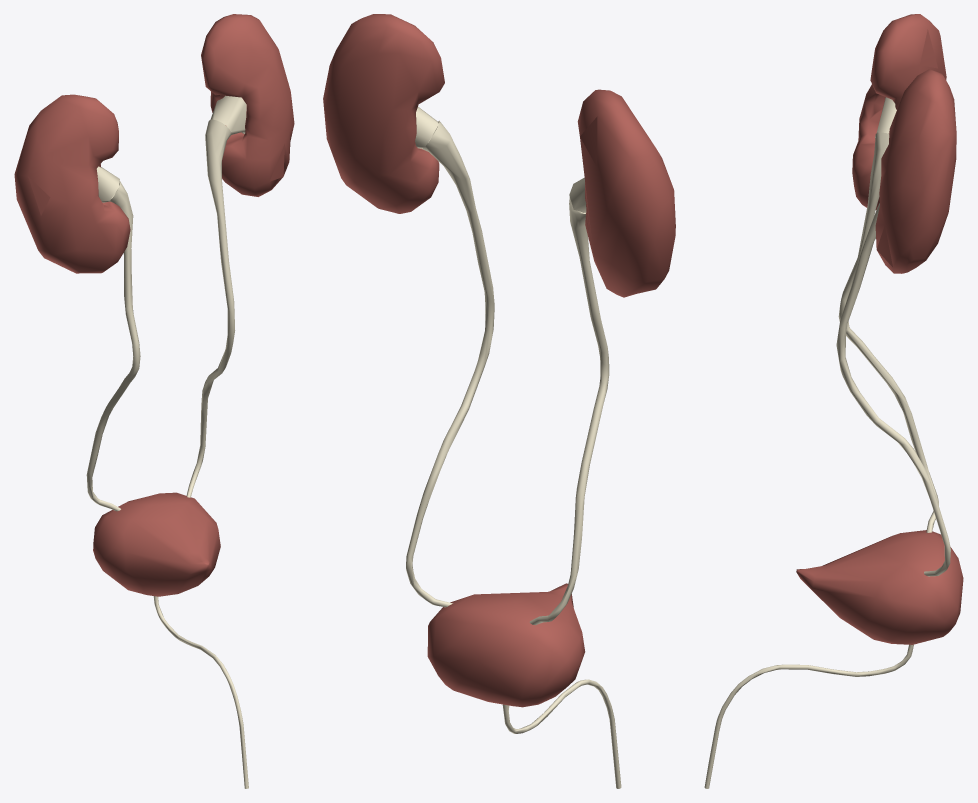
The model's file is adult_male.urinary.LOD2.glb.
3 renders of one model, left to right at view 1: azimuth 30°, elevation 25°; view 2: azimuth 150°, elevation 25°; view 3: azimuth 270°, elevation 25°, orthographic. The views are drawn at different scales.
Visible parts, largest first — view 1: ADULT.MALE.URINARY.KIDNEY.R, ADULT.MALE.URINARY.KIDNEY.L, ADULT.MALE.URINARY.URINARY_BLADDER, ADULT.MALE.URINARY.URETER.L, ADULT.MALE.URINARY.URETER.R, ADULT.MALE.URINARY.URETHRA, ADULT.MALE.URINARY.RENAL_PELVIS.L, ADULT.MALE.URINARY.RENAL_PELVIS.R; view 2: ADULT.MALE.URINARY.KIDNEY.L, ADULT.MALE.URINARY.KIDNEY.R, ADULT.MALE.URINARY.URINARY_BLADDER, ADULT.MALE.URINARY.URETER.L, ADULT.MALE.URINARY.URETER.R, ADULT.MALE.URINARY.URETHRA, ADULT.MALE.URINARY.RENAL_PELVIS.L; view 3: ADULT.MALE.URINARY.URINARY_BLADDER, ADULT.MALE.URINARY.KIDNEY.L, ADULT.MALE.URINARY.KIDNEY.R, ADULT.MALE.URINARY.URETER.L, ADULT.MALE.URINARY.URETER.R, ADULT.MALE.URINARY.URETHRA.
Part boxes in pixels (x1,y1,x2,y2): ADULT.MALE.URINARY.KIDNEY.R: (14, 94, 130, 273); ADULT.MALE.URINARY.KIDNEY.L: (201, 14, 294, 196); ADULT.MALE.URINARY.URINARY_BLADDER: (93, 492, 220, 596); ADULT.MALE.URINARY.URETER.L: (186, 119, 235, 497); ADULT.MALE.URINARY.URETER.R: (86, 181, 140, 511); ADULT.MALE.URINARY.URETHRA: (153, 596, 248, 788); ADULT.MALE.URINARY.RENAL_PELVIS.L: (210, 95, 246, 134); ADULT.MALE.URINARY.RENAL_PELVIS.R: (96, 166, 119, 202); ADULT.MALE.URINARY.KIDNEY.L: (323, 14, 444, 213); ADULT.MALE.URINARY.KIDNEY.R: (577, 89, 675, 297); ADULT.MALE.URINARY.URINARY_BLADDER: (427, 583, 585, 707); ADULT.MALE.URINARY.URETER.L: (406, 120, 494, 607); ADULT.MALE.URINARY.URETER.R: (529, 197, 609, 625); ADULT.MALE.URINARY.URETHRA: (502, 679, 621, 788); ADULT.MALE.URINARY.RENAL_PELVIS.L: (415, 106, 438, 148); ADULT.MALE.URINARY.URINARY_BLADDER: (796, 530, 963, 644); ADULT.MALE.URINARY.KIDNEY.L: (875, 69, 956, 273); ADULT.MALE.URINARY.KIDNEY.R: (852, 14, 946, 209); ADULT.MALE.URINARY.URETER.L: (836, 203, 950, 576); ADULT.MALE.URINARY.URETER.R: (838, 132, 938, 532); ADULT.MALE.URINARY.URETHRA: (704, 644, 913, 788).
Bounding box in the file's own units: 0.178 × 0.4202 × 0.1296.
